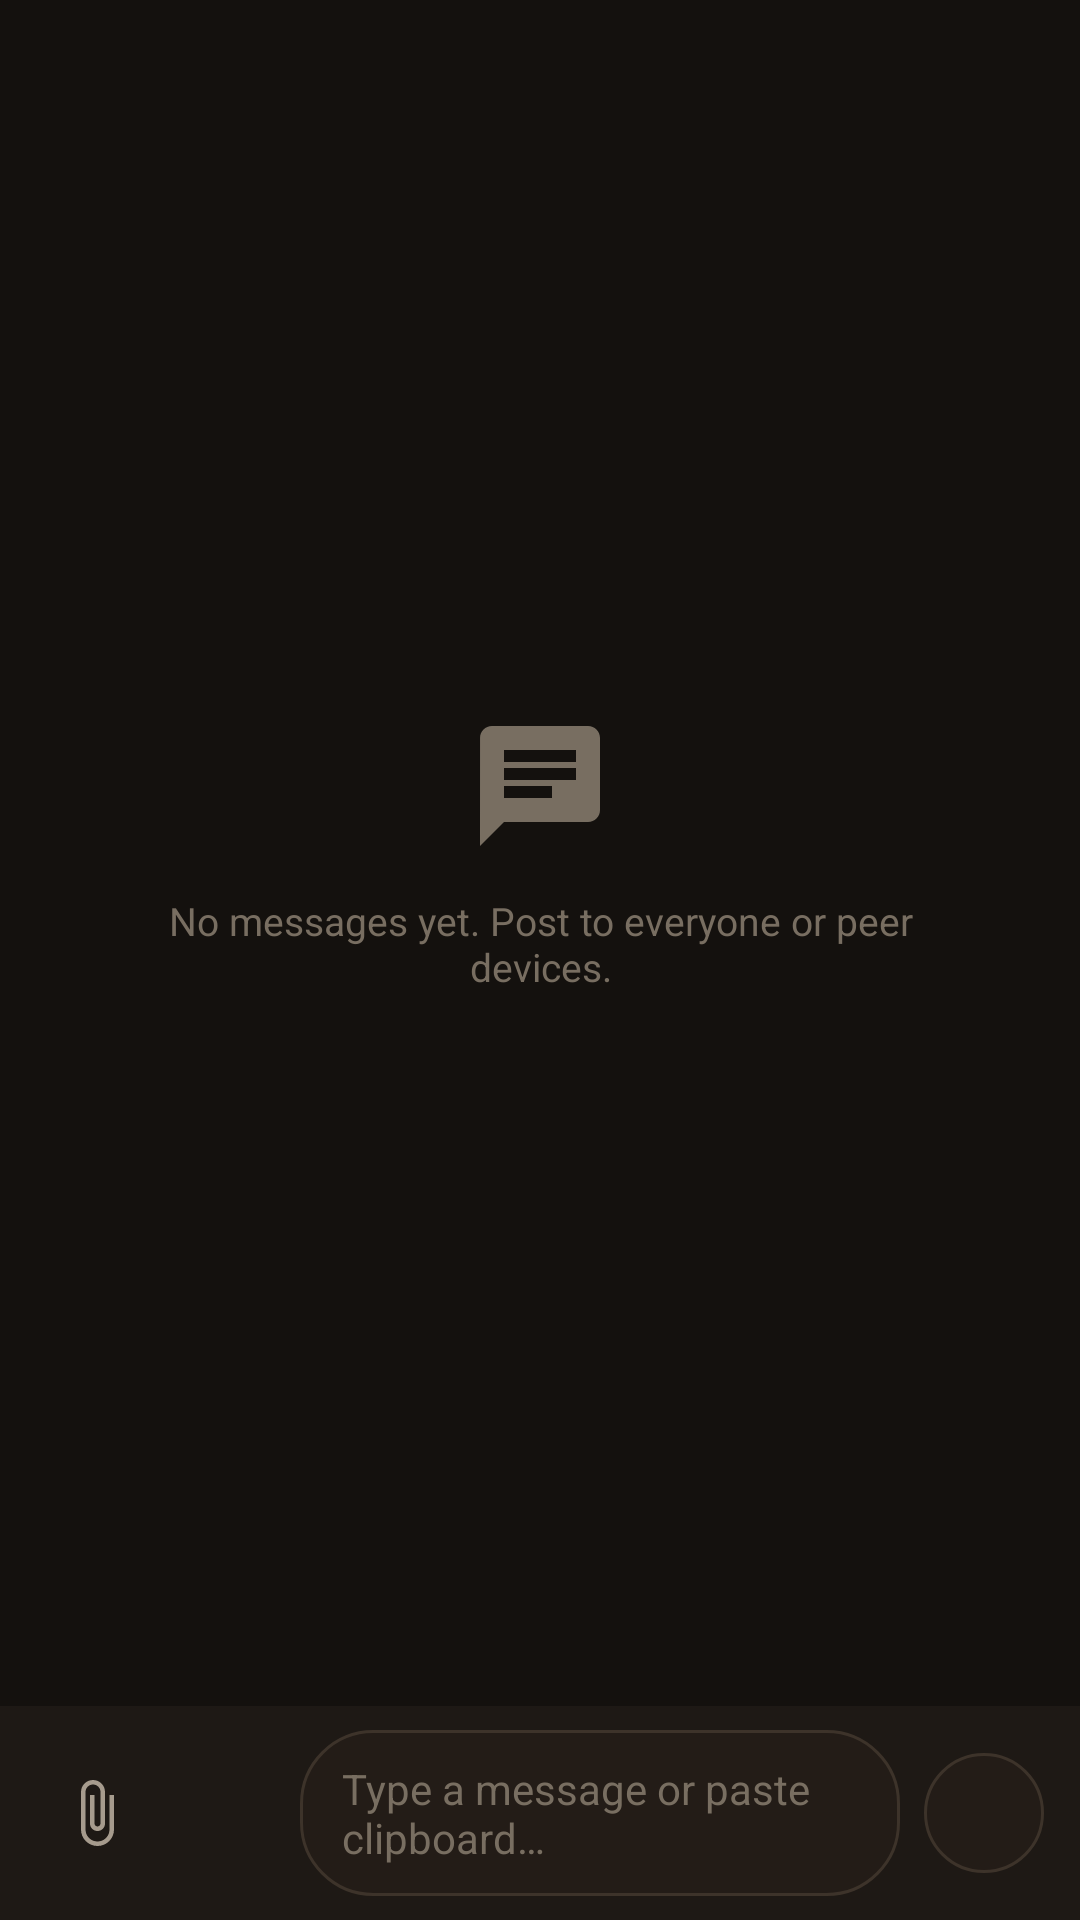

Screen size 1080x1920. Icon name, then its center in pixels as [x,y]:
Attach File: [97,1813]
chat: [540,786]
